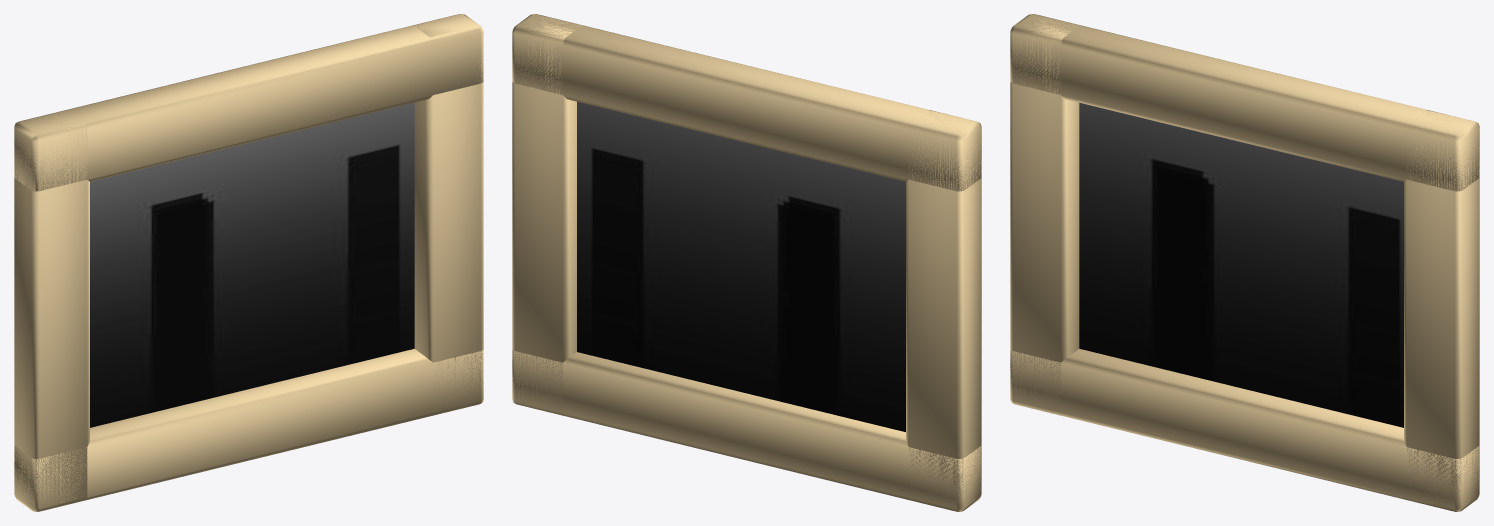
Rendered from gallery_photo_7.glb.
3 renders of one model, left to right at view 1: azimuth 30°, elevation 25°; view 2: azimuth 150°, elevation 25°; view 3: azimuth 330°, elevation 25°, orthographic.
Visible parts, largest first — view 1: Brass, Photo; view 2: Brass, Photo; view 3: Brass, Photo.
Part boxes in pixels (x1,y1,x2,y2): Brass: (14, 14, 483, 511); Photo: (90, 103, 414, 427); Brass: (512, 14, 981, 511); Photo: (577, 101, 905, 432); Brass: (1010, 14, 1479, 511); Photo: (1079, 103, 1403, 427).
Size of the model in its own units: 0.35 by 0.28 by 0.03.
Materials: 2 (1 with a texture image).
